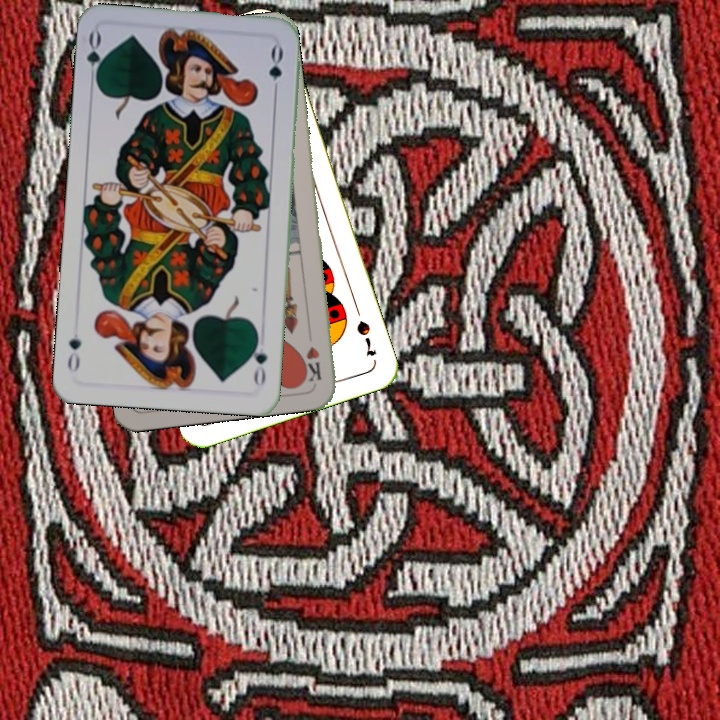GO: (82, 28, 109, 88), (247, 330, 270, 389)
HK: (302, 342, 324, 384)
S7: (352, 316, 379, 359)
